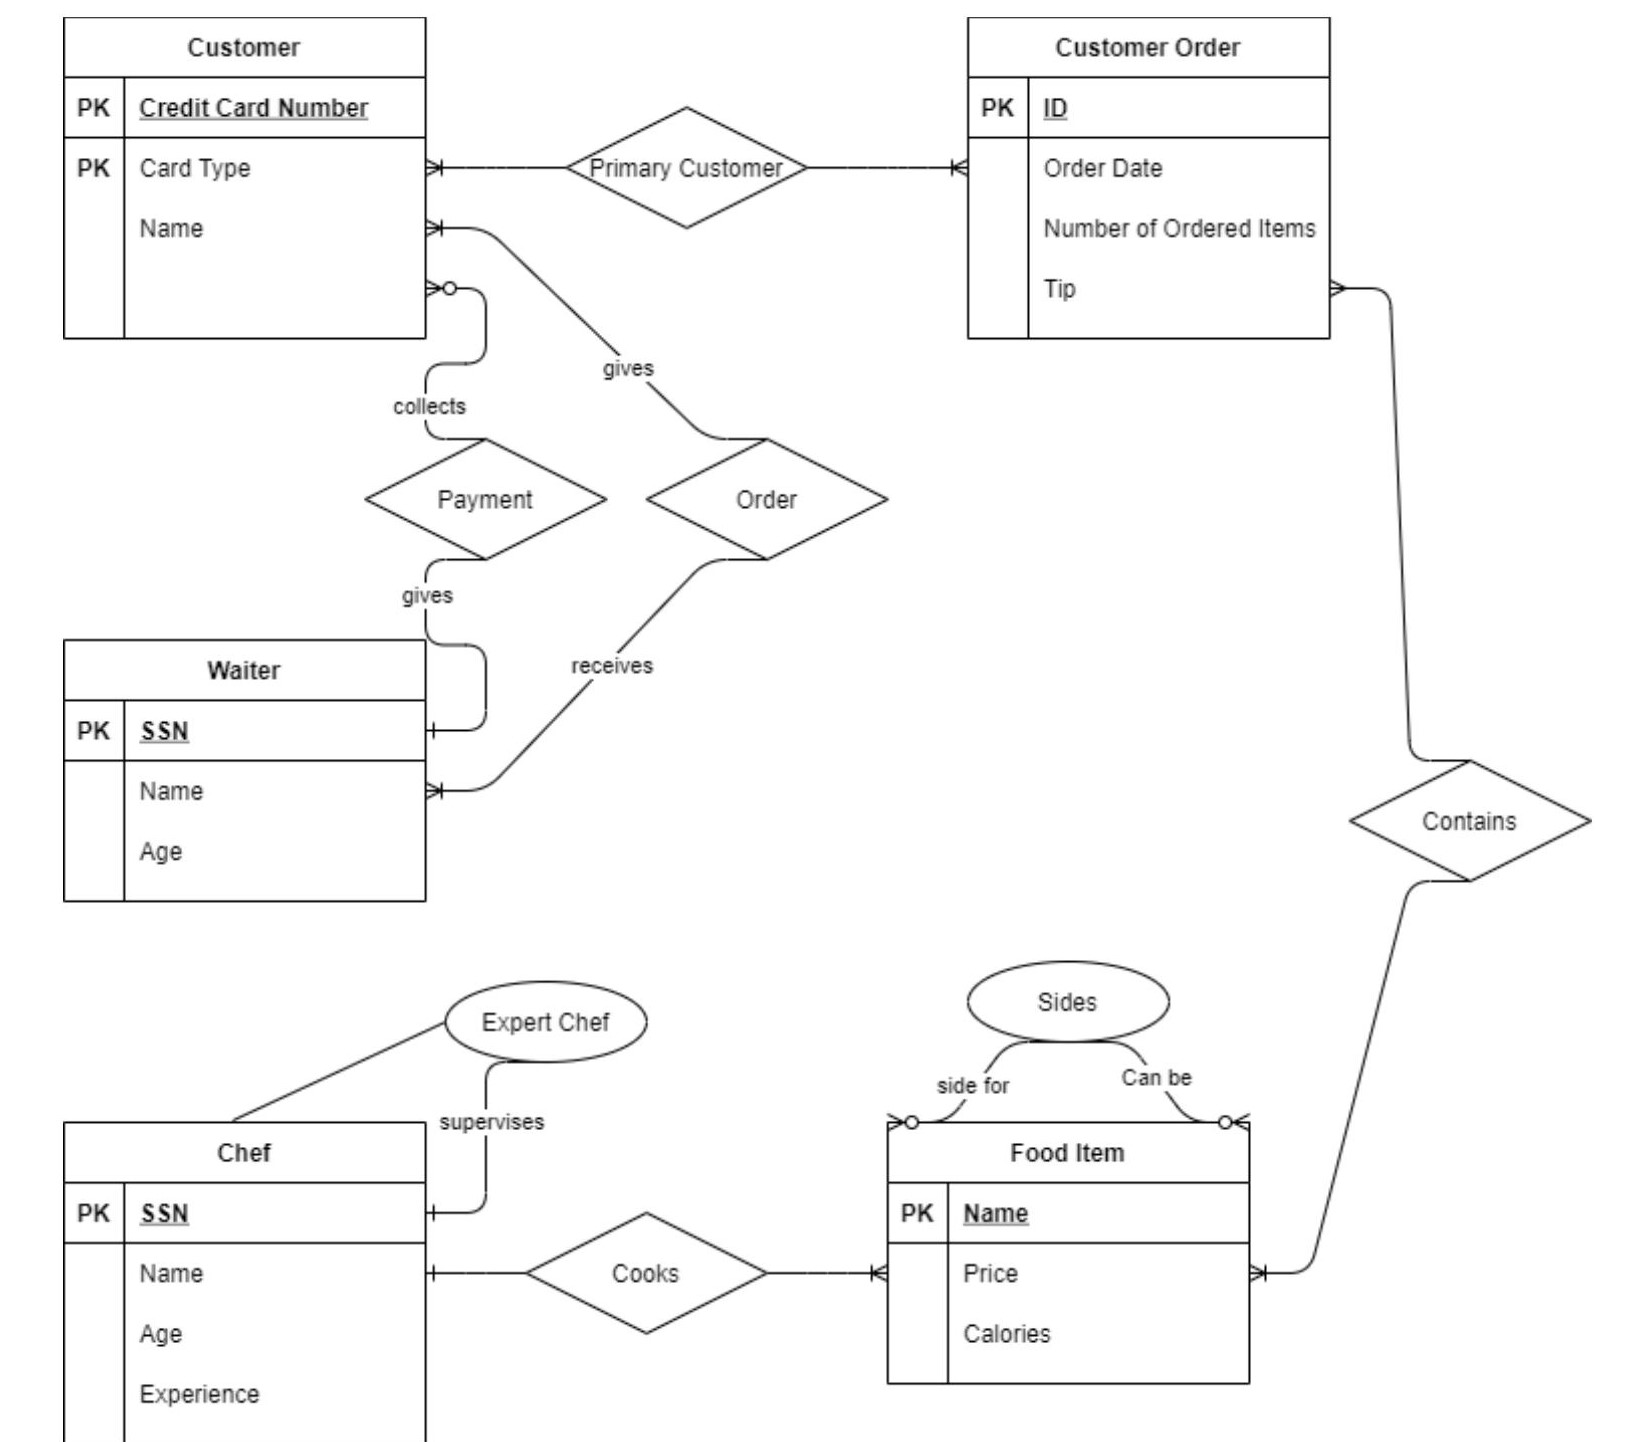Attribute: (959, 947, 1173, 1048), (441, 982, 659, 1075)
Entity: (957, 7, 1344, 352), (55, 7, 437, 352), (46, 1113, 439, 1442), (869, 1107, 1265, 1400), (43, 625, 439, 918)
Relationship: (364, 429, 612, 568), (1344, 754, 1598, 886), (646, 432, 894, 566), (526, 1209, 771, 1338), (569, 107, 804, 233)
